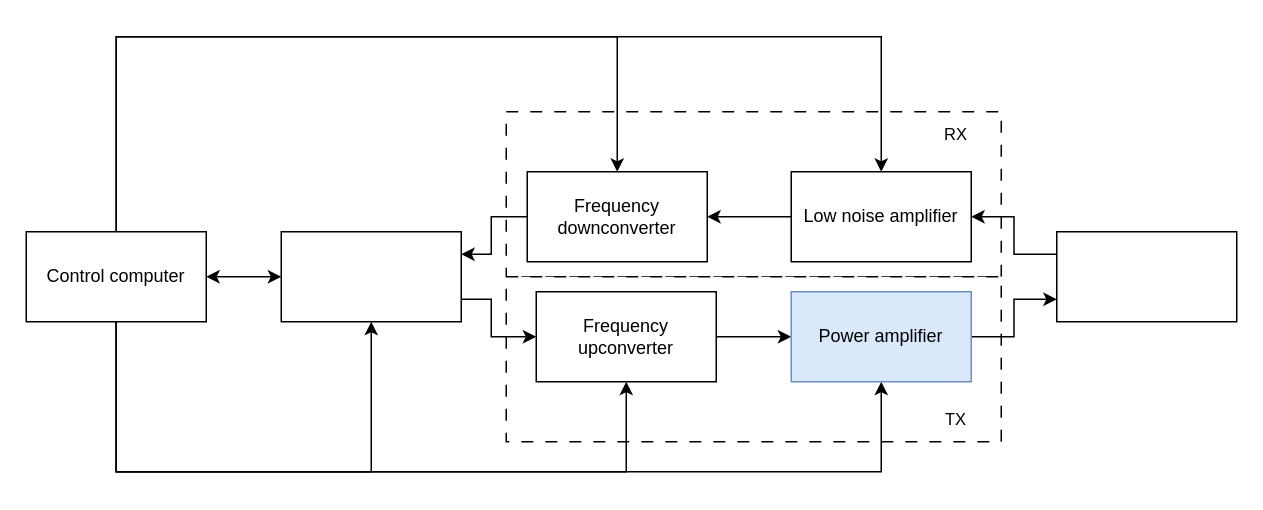
This 1263x510 diagram has some shape labels left out. Here are the shapes that lost their labels. From the top down, the centre of each, then its label:
At pixel 370 276: "Cortex modem".
At pixel 1146 276: "Diplexer and antenna".
